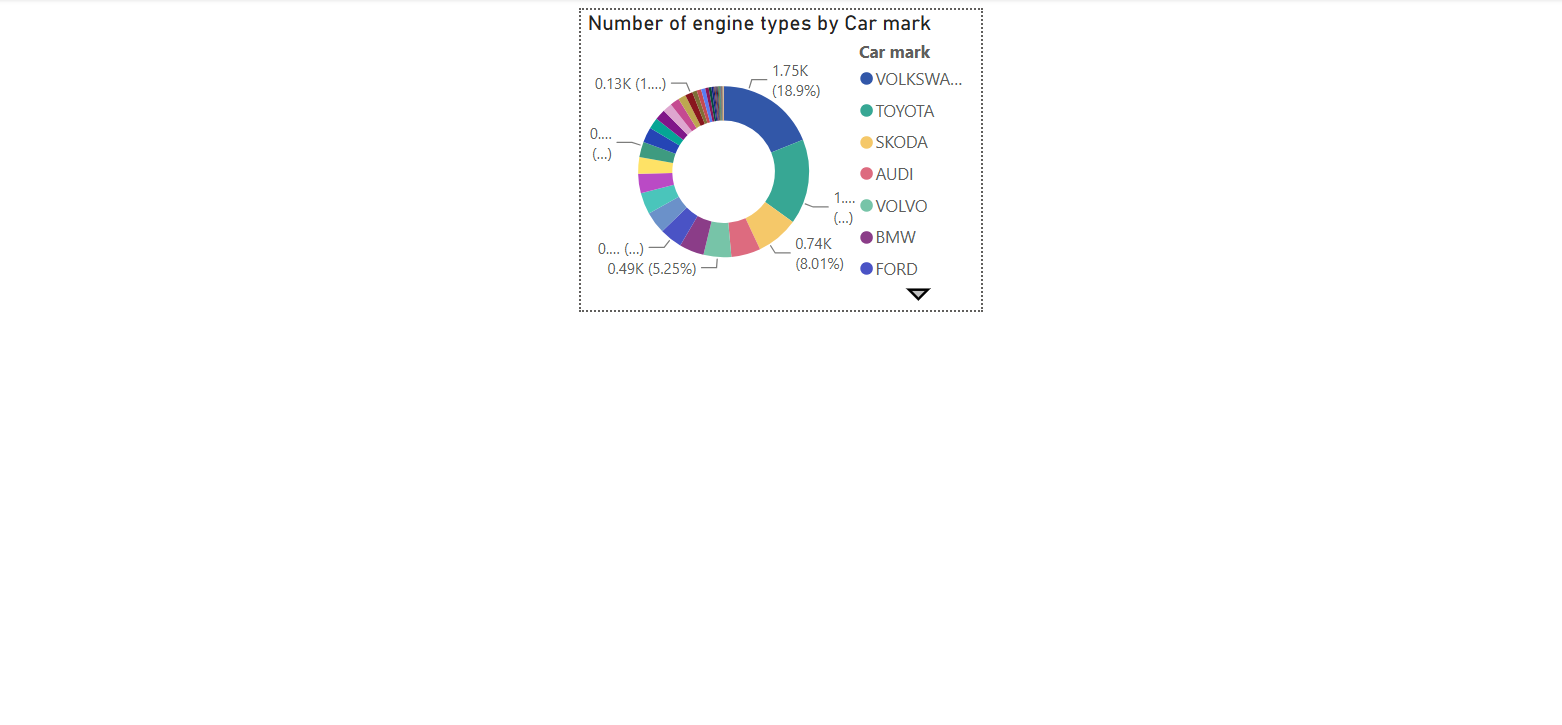

What the dashboard file says about the page in this screenshot:
{"tool":"powerbi","page":{"name":"Custom Tool-tip of EngineByMark","canvas":[320,240],"ordinal":5},"visuals":[{"type":"donutChart","fields":{"Category":["policies.Mark"],"Y":["CountNonNull(policies.EngineType)"]},"box":[0,0,320,240],"z":0}]}

Visuals, with their boxes on the page's 320x240 design canvas (x1, y1, x2, y2). These are canvas units, not pixel positions in the 1562x725 screenshot, which may show the page scaled, cropped or inside an application window:
donutChart - policies.Mark x CountNonNull(policies.EngineType): bbox=[0, 0, 320, 240]
